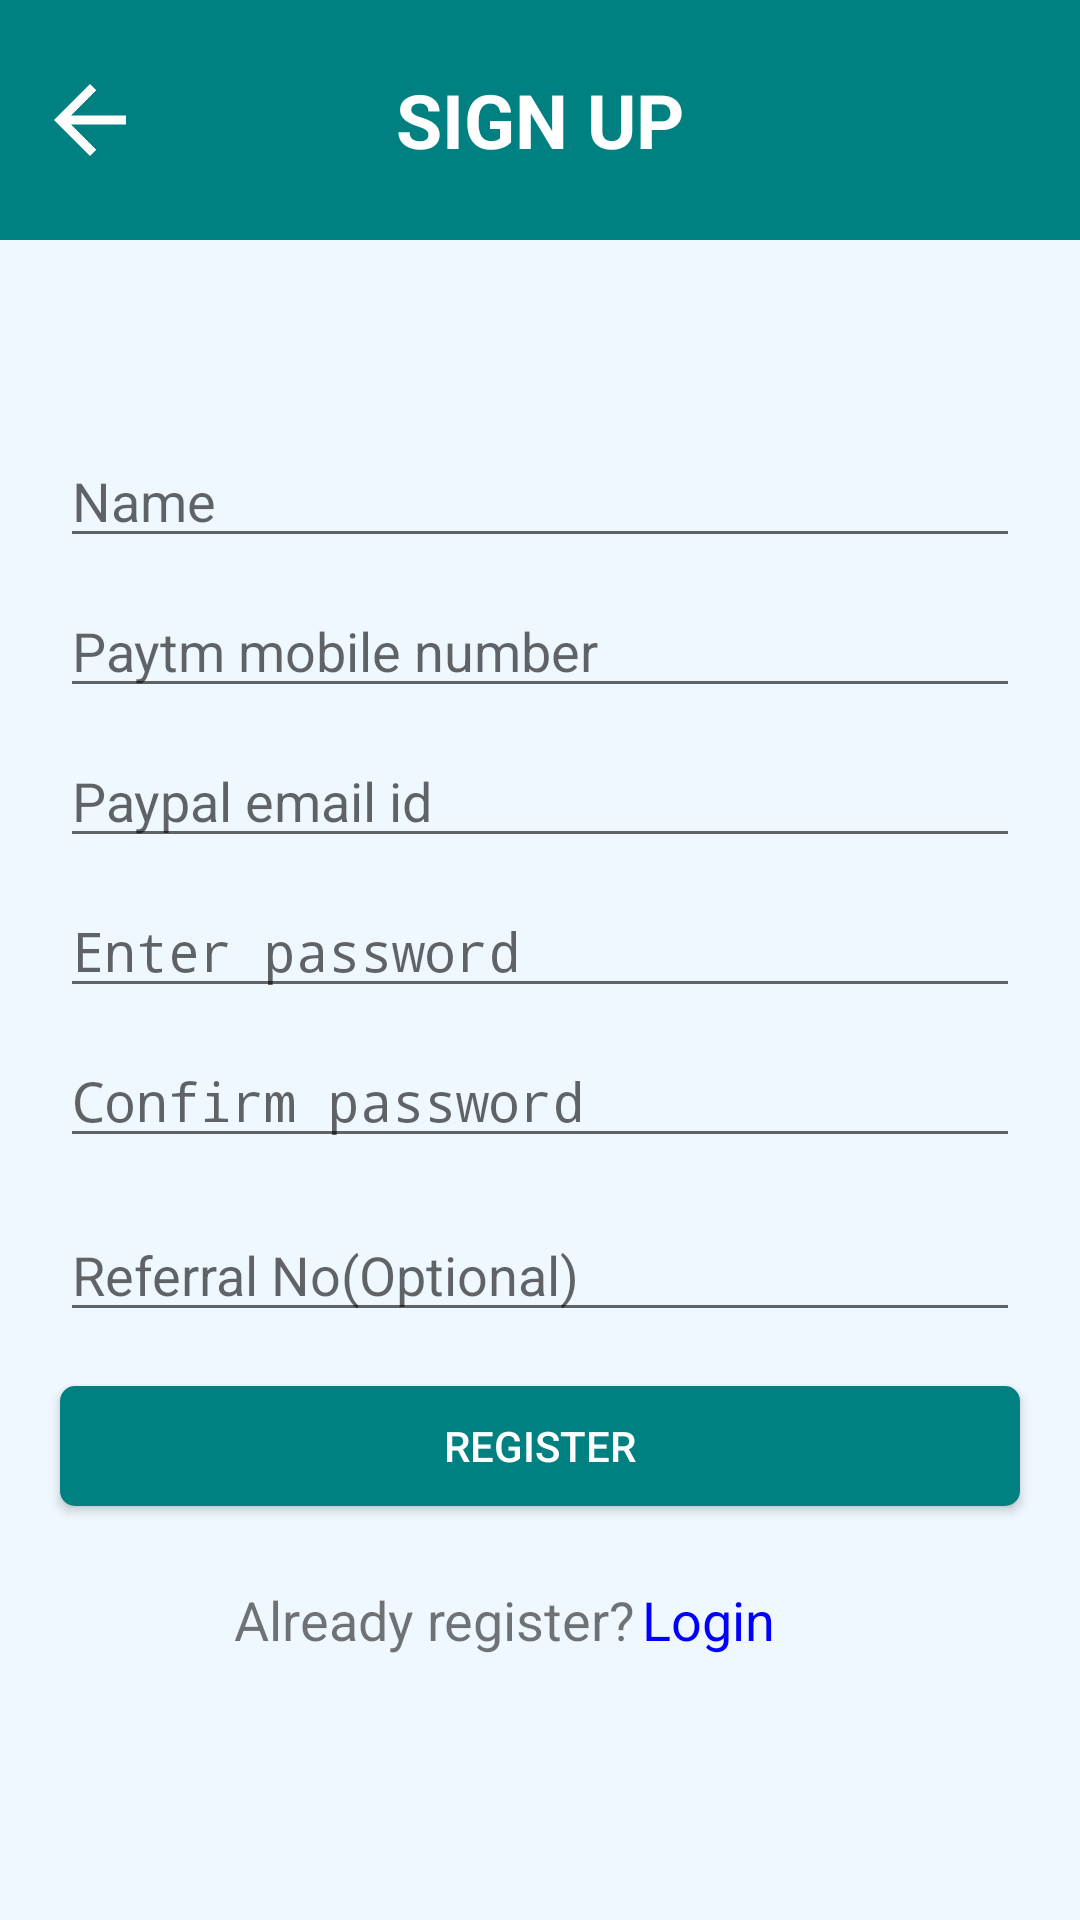

Named icons in this screenshot (1080×1920) and their bounding boxes, {"x1": x1, "y1": y1, "x2": x2, "y2": y2}:
back: {"x1": 54, "y1": 84, "x2": 126, "y2": 156}
